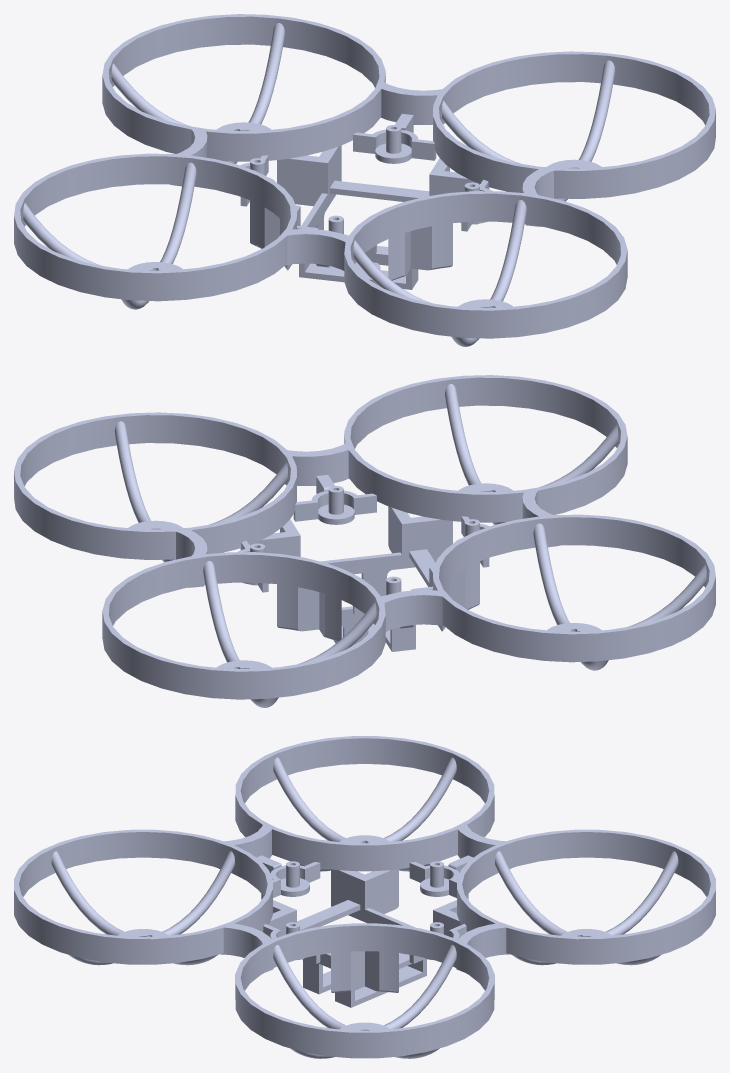
File: Mobula7Frame.glb
3 renders of one model, top to bottom at view 1: azimuth 30°, elevation 25°; view 2: azimuth 150°, elevation 25°; view 3: azimuth 270°, elevation 25°, orthographic. The views are drawn at different scales.
Parts seen in each view (by area): view 1: Mobula7Frame; view 2: Mobula7Frame; view 3: Mobula7Frame.
Part boxes in pixels (<box>): Mobula7Frame: <box>14,14,715,346</box>; Mobula7Frame: <box>14,375,715,707</box>; Mobula7Frame: <box>14,736,715,1058</box>.
Bounding box in the file's own units: 0.1242 × 0.019 × 0.1242.
